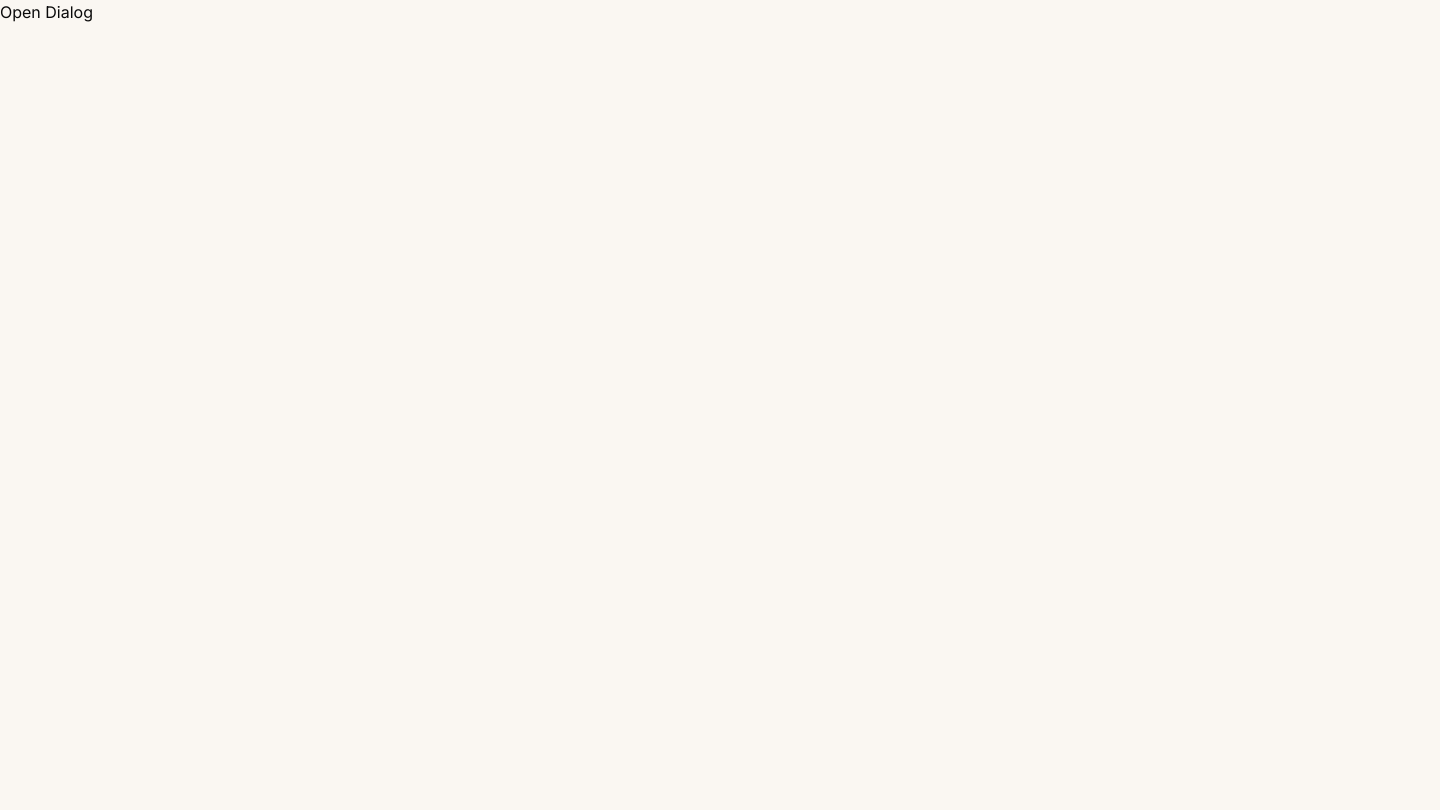
it: Dialog Accessibility › should close on Escape key
Open dialog
Click the button "Open Dialog" at (46, 12), box top-left (0, 0), bottom-right (93, 24)
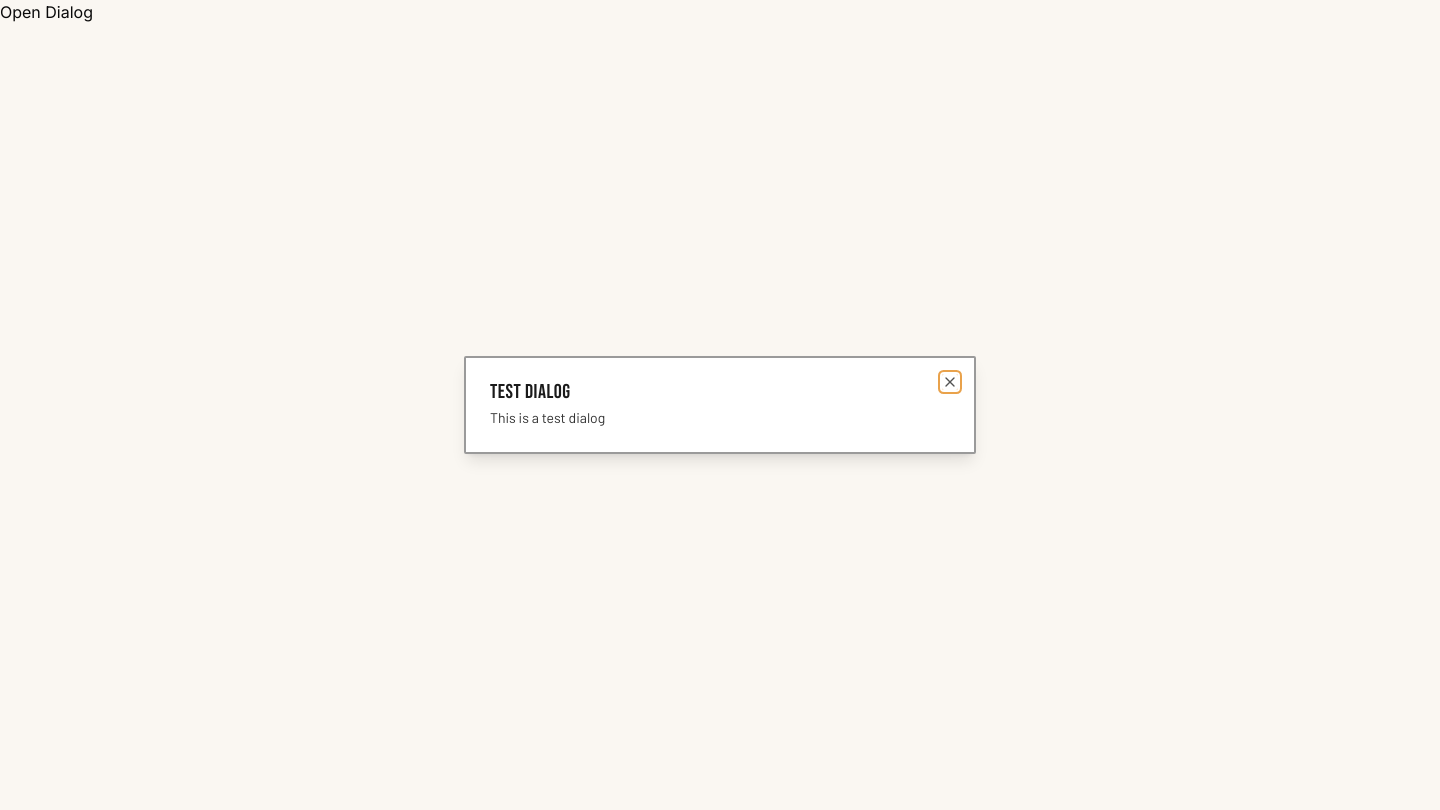
Check: the dialog is shown, box top-left (464, 356), bottom-right (976, 454)
Press Escape
Press Escape
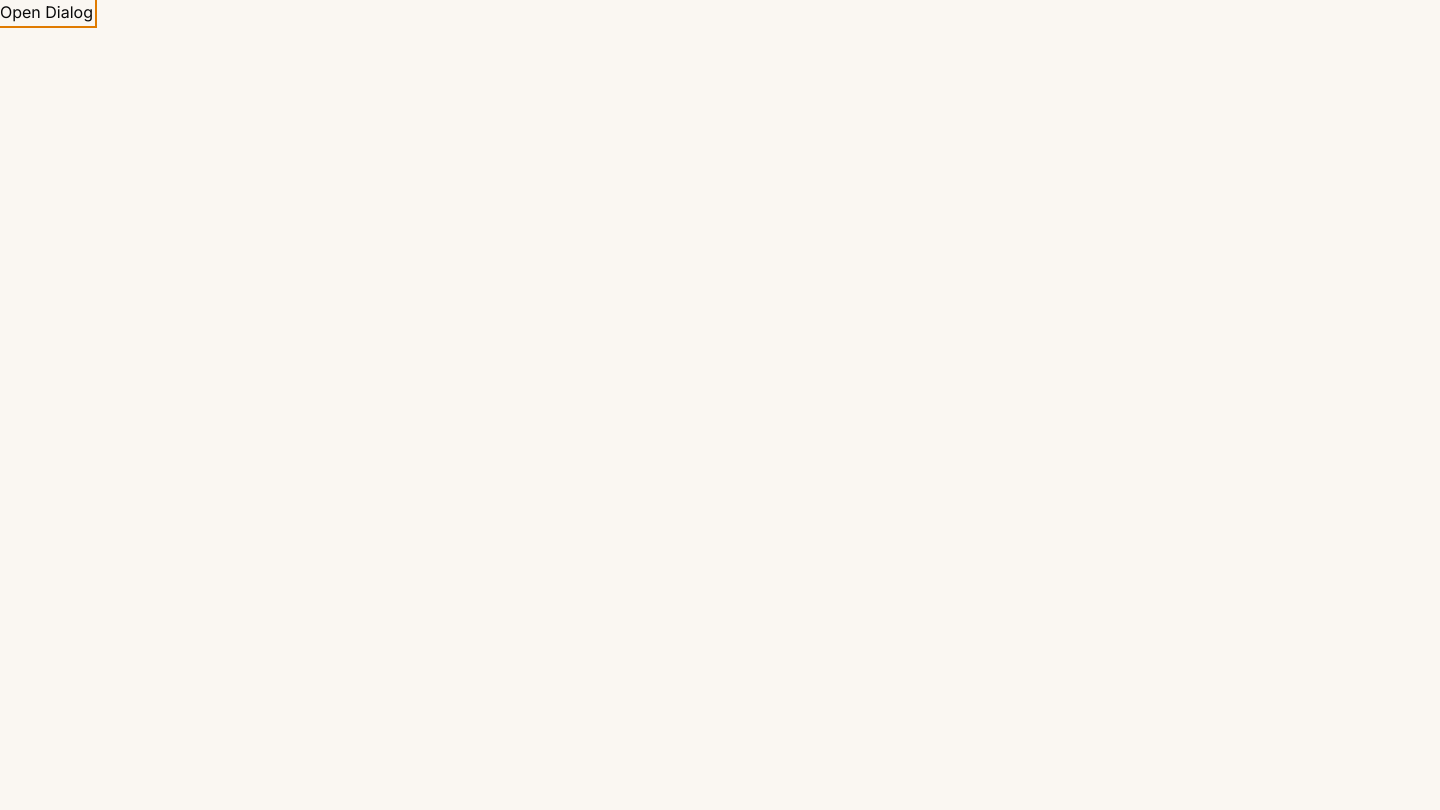
Check: the dialog is gone
